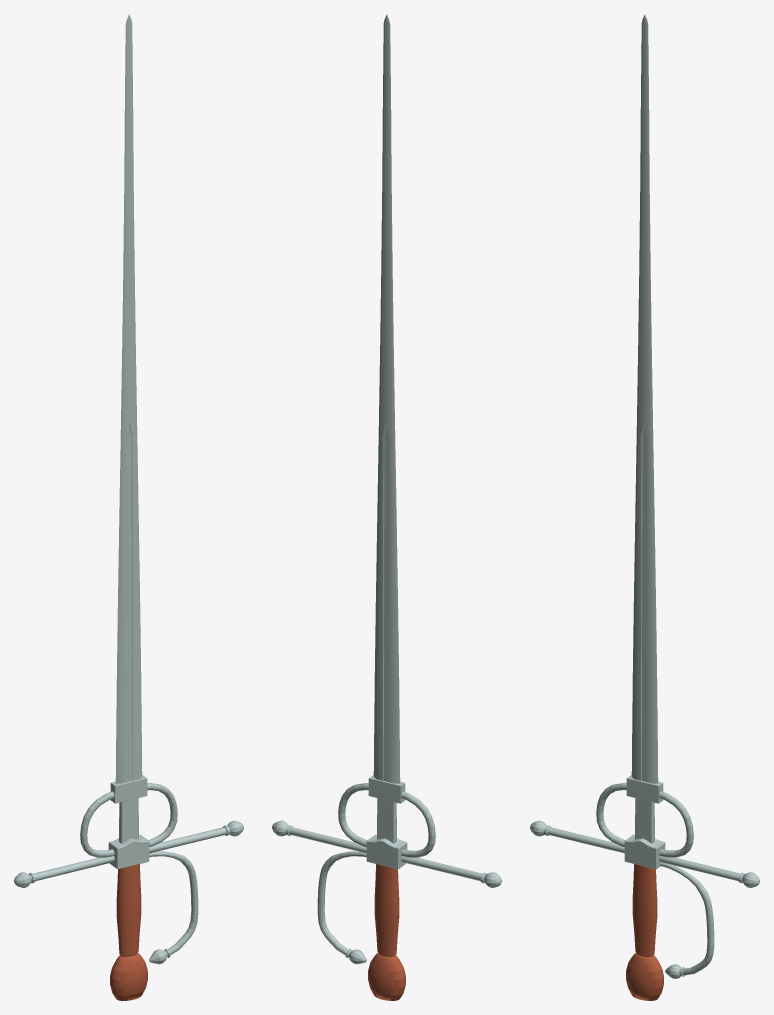
File: Rapier.glb
3 views of the same model, side by side, from view 1: azimuth 30°, elevation 25°; view 2: azimuth 150°, elevation 25°; view 3: azimuth 330°, elevation 25° (orthographic).
Parts seen in each view (by area): view 1: Rapier; view 2: Rapier; view 3: Rapier.
Part boxes in pixels (x1,y1,x2,y2): Rapier: (14,14,243,1000); Rapier: (272,14,501,1000); Rapier: (530,14,759,1000).
Size of the model in its own units: 0.2921 by 1.2 by 0.0284.
Materials: 1 (1 with a texture image).
